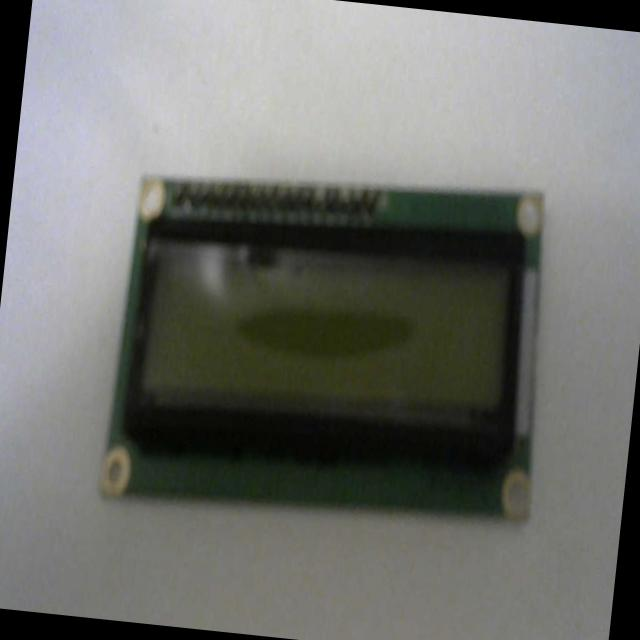lcd: (98, 147, 563, 540)
